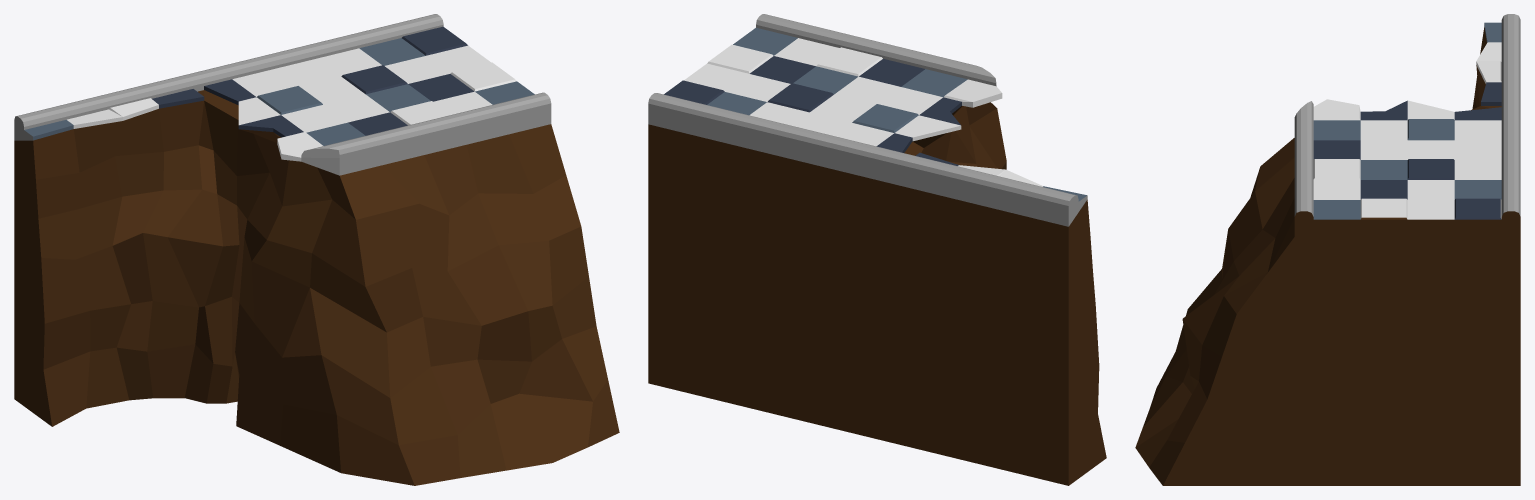
File: road_stopA.fbx
The picture shows the model from 3 angles, left to right: view 1: azimuth 30°, elevation 25°; view 2: azimuth 150°, elevation 25°; view 3: azimuth 270°, elevation 25°; orthographic projection. The views are drawn at different scales.
Parts seen in each view (by area): view 1: road_line_stopA; view 2: road_line_stopA; view 3: road_line_stopA.
Boxes of the visible parts, bbox=[...] form: road_line_stopA: bbox=[14, 14, 619, 485]; road_line_stopA: bbox=[648, 14, 1106, 485]; road_line_stopA: bbox=[1135, 14, 1520, 485].
Bounding box in the file's own units: 496 × 322 × 409.
